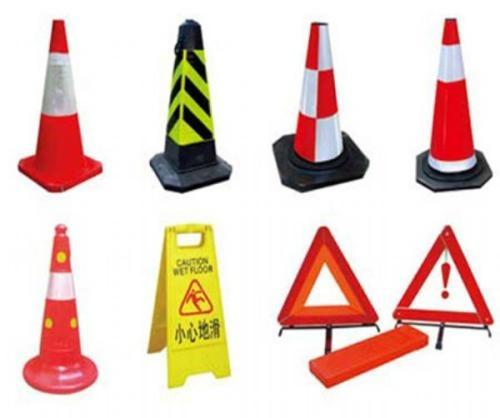cone_barrel: (16, 22, 101, 190), (148, 24, 231, 194), (20, 225, 98, 393), (281, 25, 359, 179), (414, 18, 485, 186)
